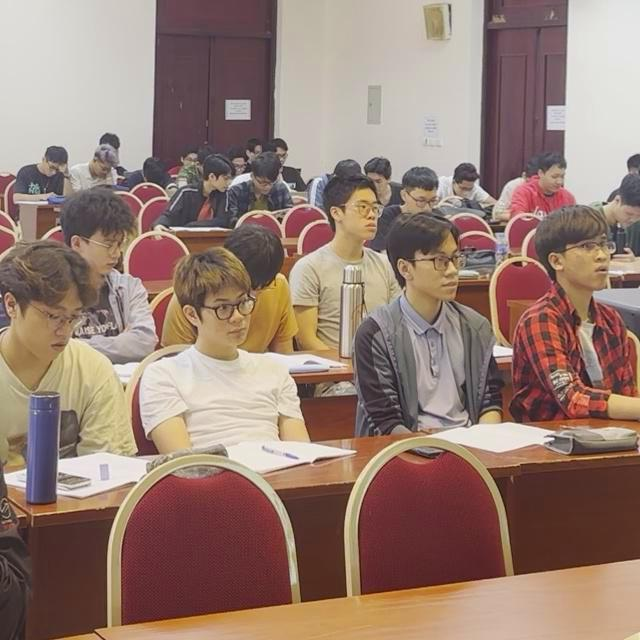Looking away: (33, 308, 82, 363), (92, 235, 122, 276), (546, 168, 563, 192), (218, 174, 232, 194), (259, 178, 272, 196), (44, 163, 58, 178), (97, 163, 112, 177)
Looking forward: (208, 293, 250, 344), (421, 253, 459, 301), (576, 240, 610, 286), (350, 197, 379, 237)
